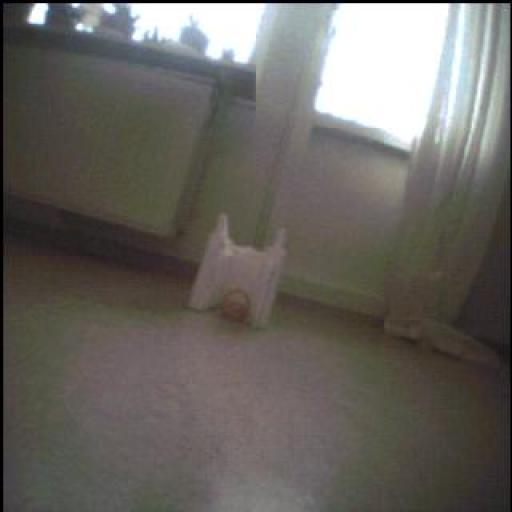Basket: (222, 289, 252, 324)
